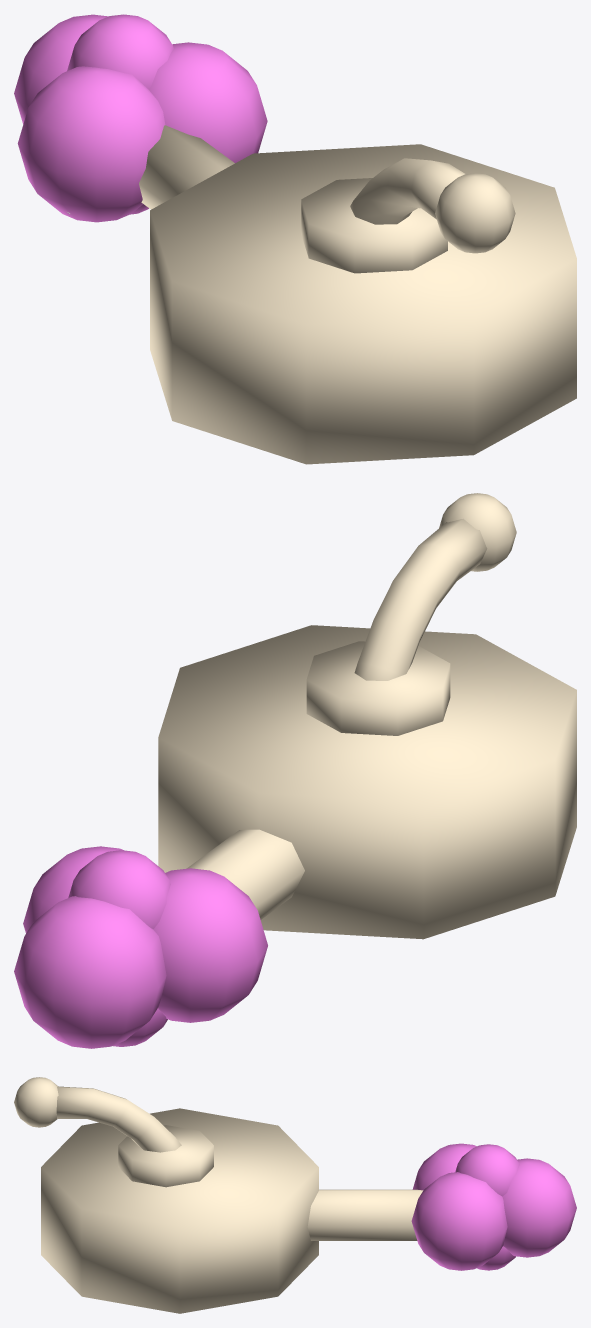
File: Plumbus.FBX
3 renders of one model, top to bottom at view 1: azimuth 30°, elevation 25°; view 2: azimuth 150°, elevation 25°; view 3: azimuth 270°, elevation 25°, orthographic. The views are drawn at different scales.
Parts seen in each view (by area): view 1: Object001; view 2: Object001; view 3: Object001.
Part boxes in pixels (left/top/right/bottom): Object001: left=14, top=14, right=576, bottom=464; Object001: left=14, top=493, right=576, bottom=1048; Object001: left=14, top=1077, right=576, bottom=1313.
Bounding box in the file's own units: 38.8 × 28.69 × 78.56.
